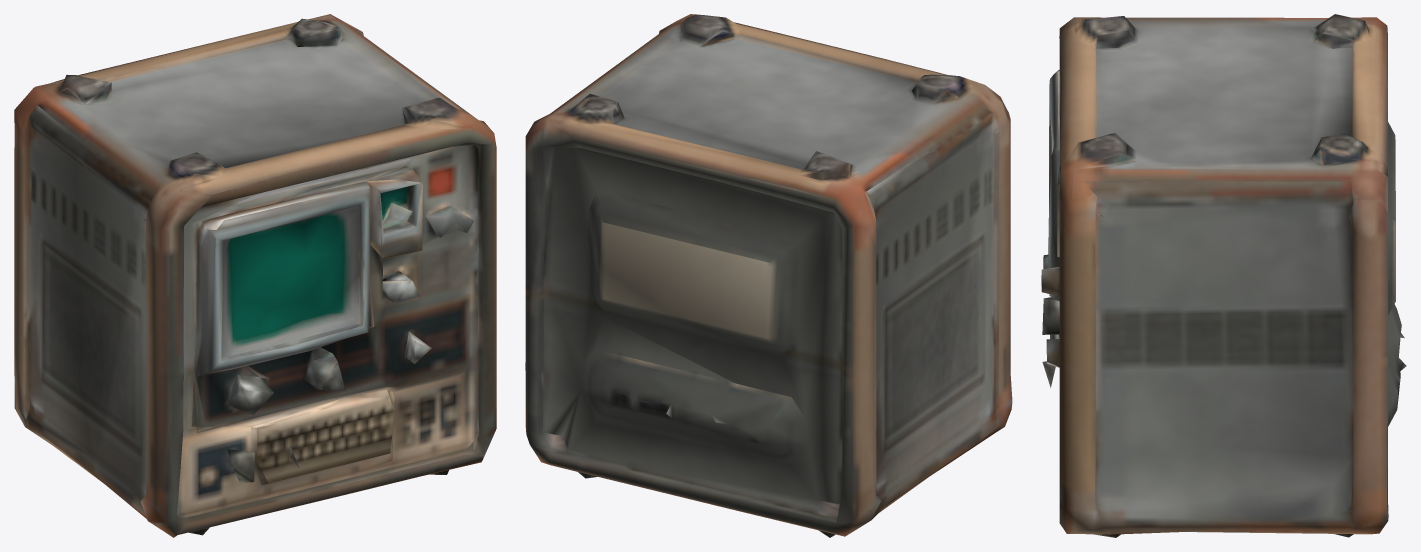
The model's file is machine.obj.
3 renders of one model, left to right at view 1: azimuth 30°, elevation 25°; view 2: azimuth 150°, elevation 25°; view 3: azimuth 270°, elevation 25°, orthographic. The views are drawn at different scales.
Visible parts, largest first — view 1: Meshy_AI_I_need_a_machine_with_0418153521_texture; view 2: Meshy_AI_I_need_a_machine_with_0418153521_texture; view 3: Meshy_AI_I_need_a_machine_with_0418153521_texture.
Boxes of the visible parts, <box> form: Meshy_AI_I_need_a_machine_with_0418153521_texture: <box>14,14,496,537</box>; Meshy_AI_I_need_a_machine_with_0418153521_texture: <box>525,14,1012,537</box>; Meshy_AI_I_need_a_machine_with_0418153521_texture: <box>1041,14,1406,537</box>.
Bounding box in the file's own units: 1.89 × 1.92 × 1.65.
